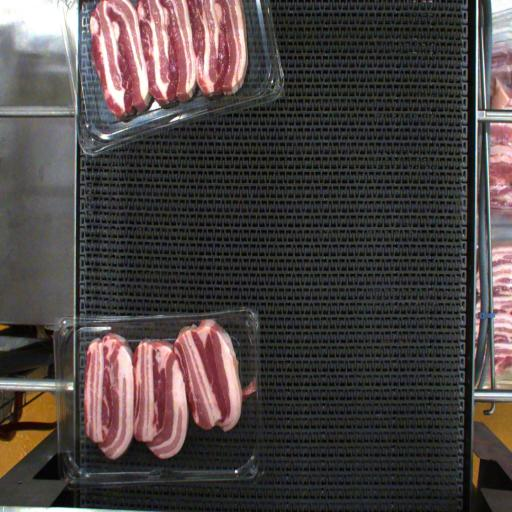loose-meat: (180, 301, 246, 447)
packaging-error: (245, 374, 269, 410)
